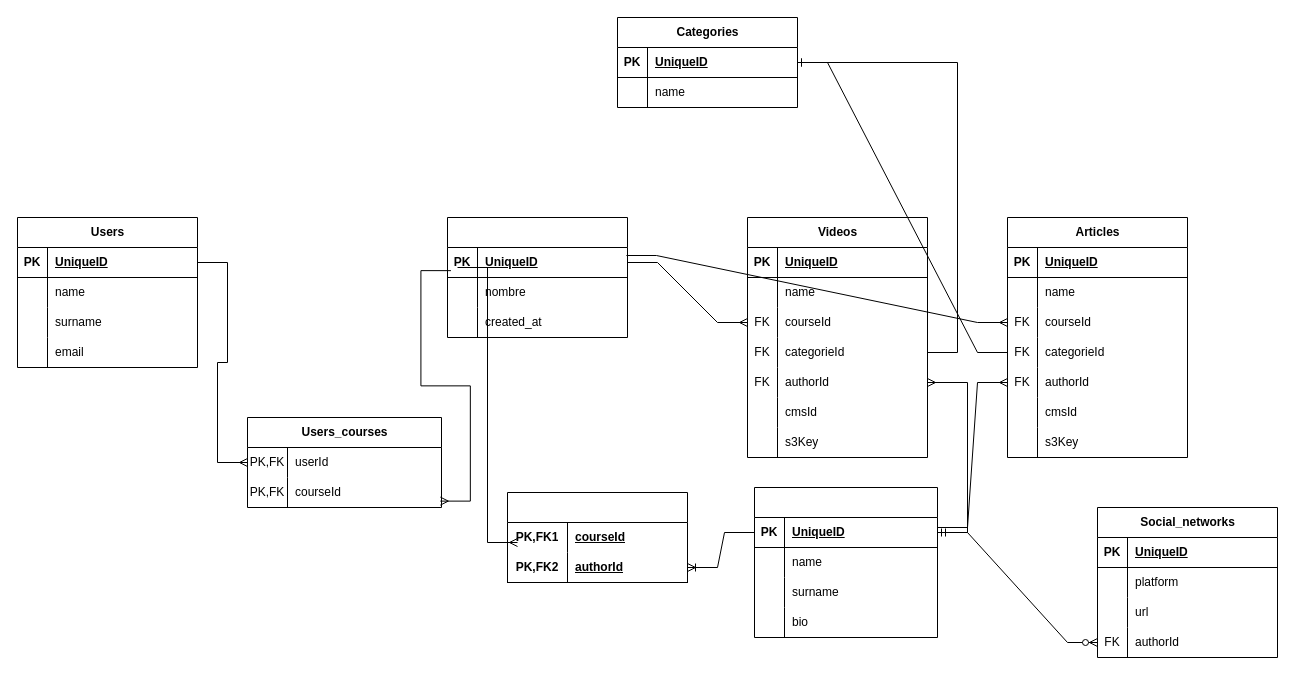
This 1295x675 diagram has some shape labels left out. The box of each missing label's shape, as (x1, y1, x2, y2) in pixels:
Authors: (754, 486, 938, 638)
Courses: (446, 216, 628, 338)
Courses_authors: (506, 492, 688, 582)
